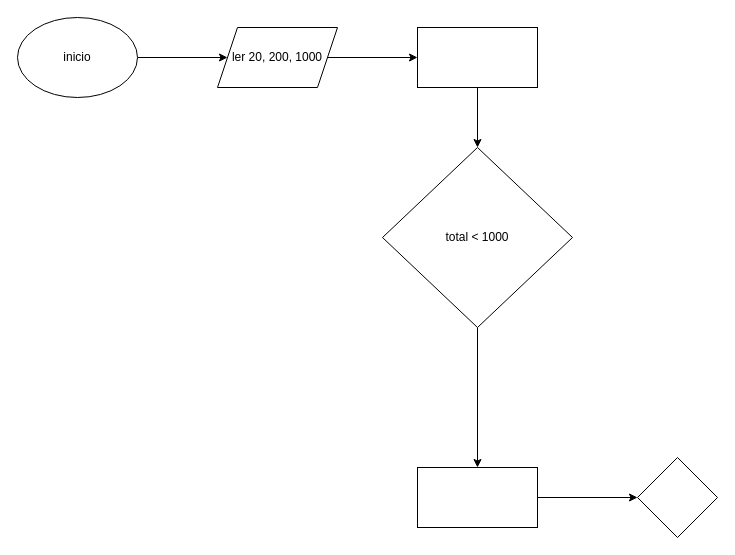
Image size: 735x555. Some labels were removed from this diagram. Here are the shapes that lost their labels. From the top down, the box of each, then its label:
(416, 26, 538, 88): total = 20 +200
(416, 466, 538, 528): total = 200 + 220
